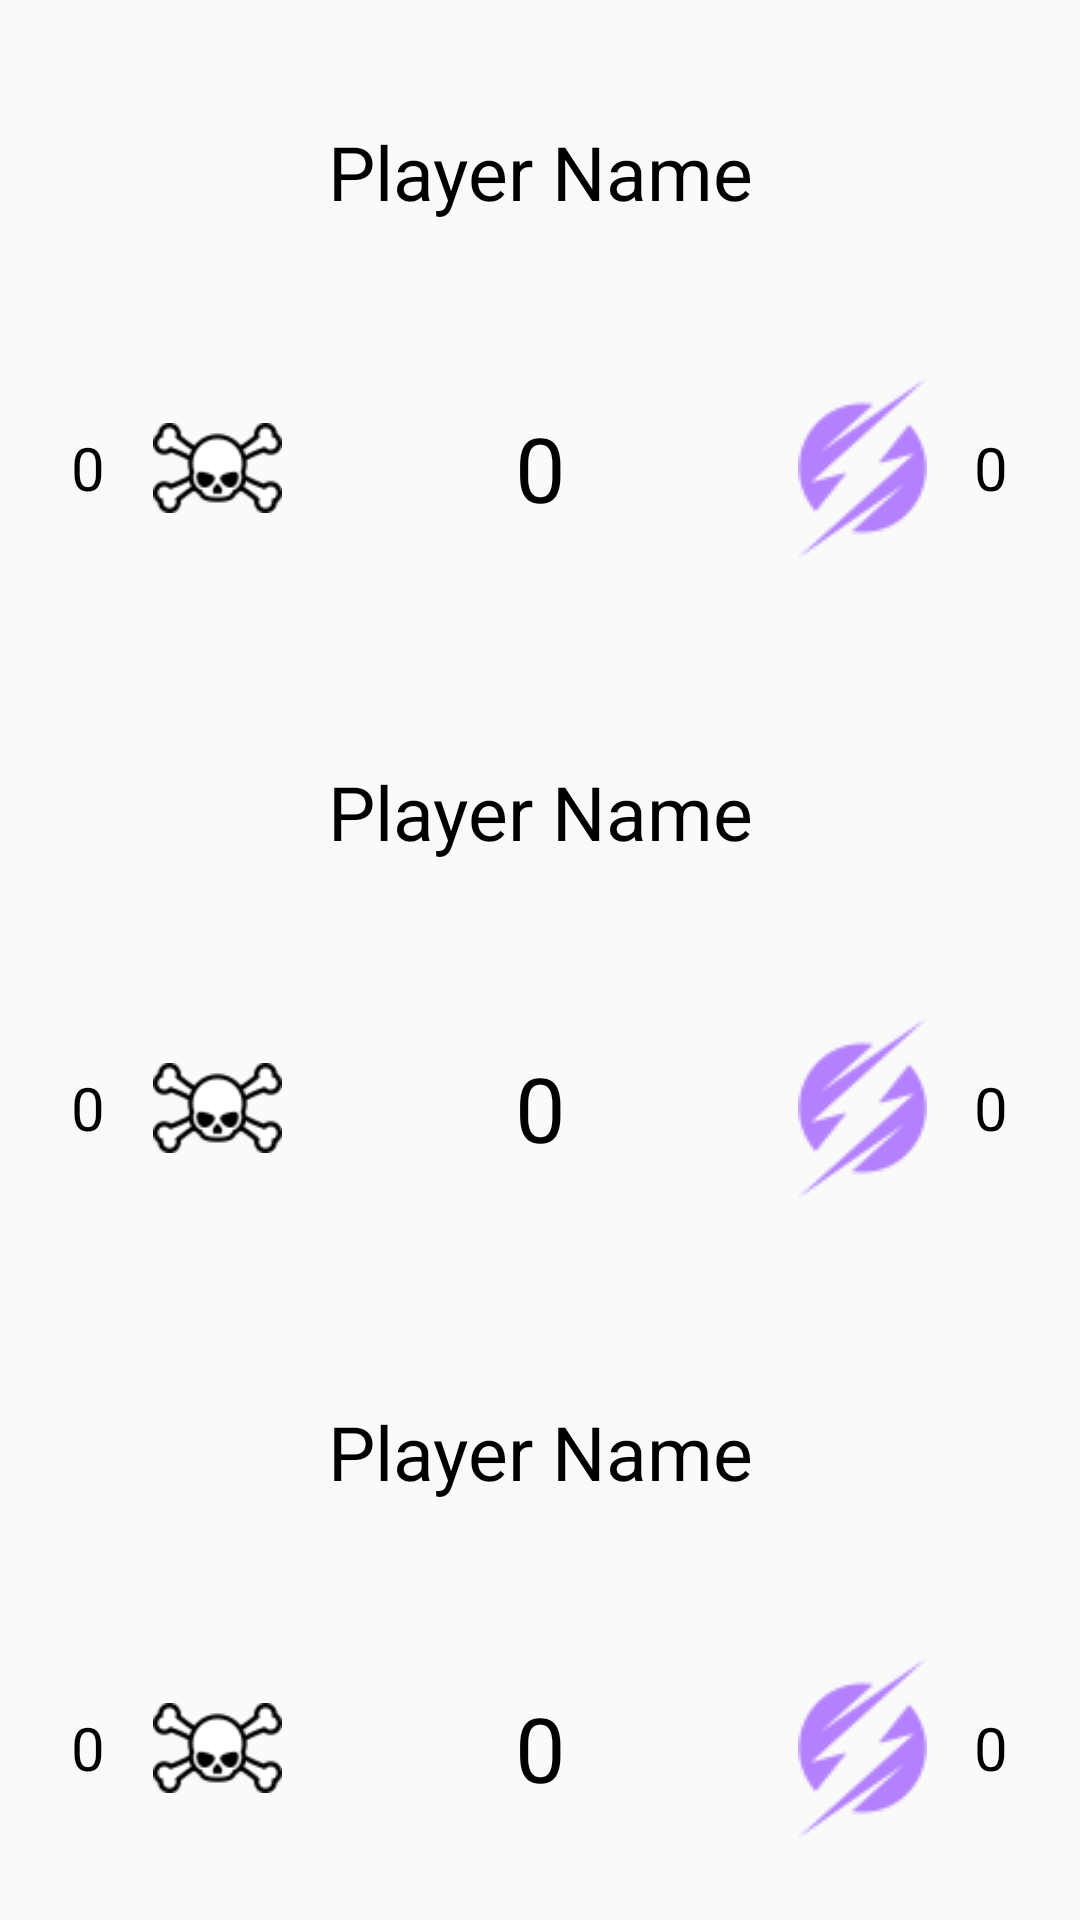

Point at icon controls on the screen. Image size 1080*1920, points as (x=x, y=y).
counter energy: (x=862, y=468), (x=862, y=1108), (x=862, y=1748)
counter poison: (x=217, y=468), (x=217, y=1108), (x=217, y=1748)
